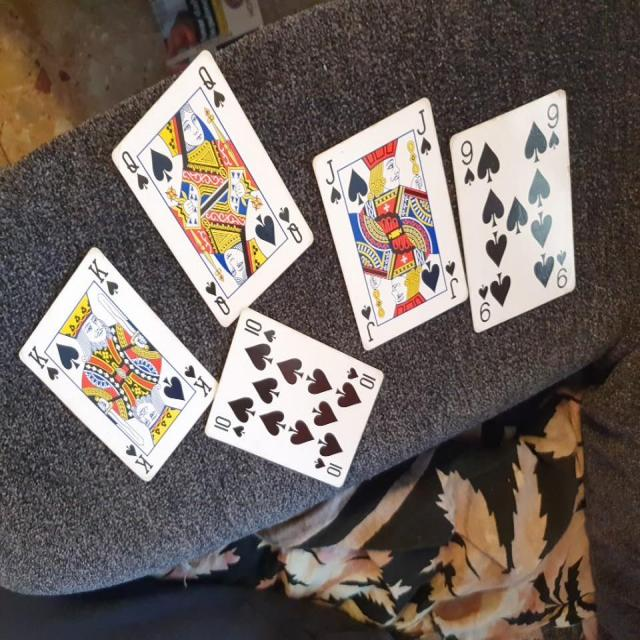10 Spades: (206, 298, 386, 501)
9 Spades: (445, 77, 580, 336)
J Spades: (307, 88, 470, 349)
K Spades: (18, 240, 224, 490)
Q Spades: (102, 47, 314, 330)
